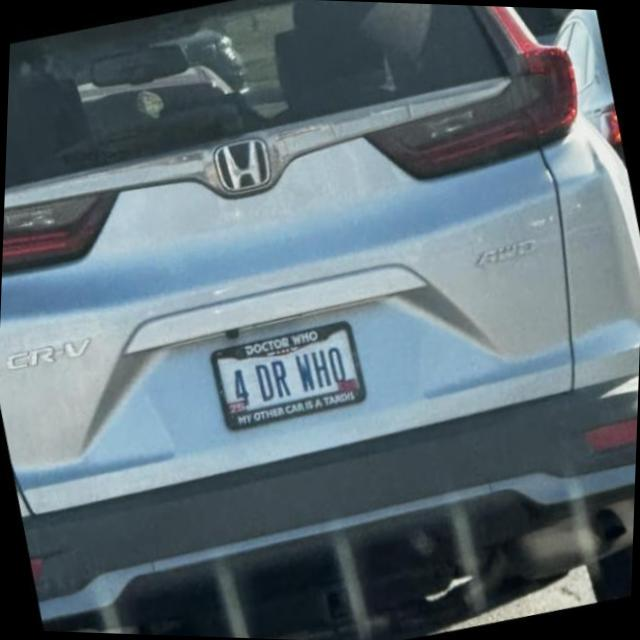LicensePlate: (209, 319, 368, 432)
